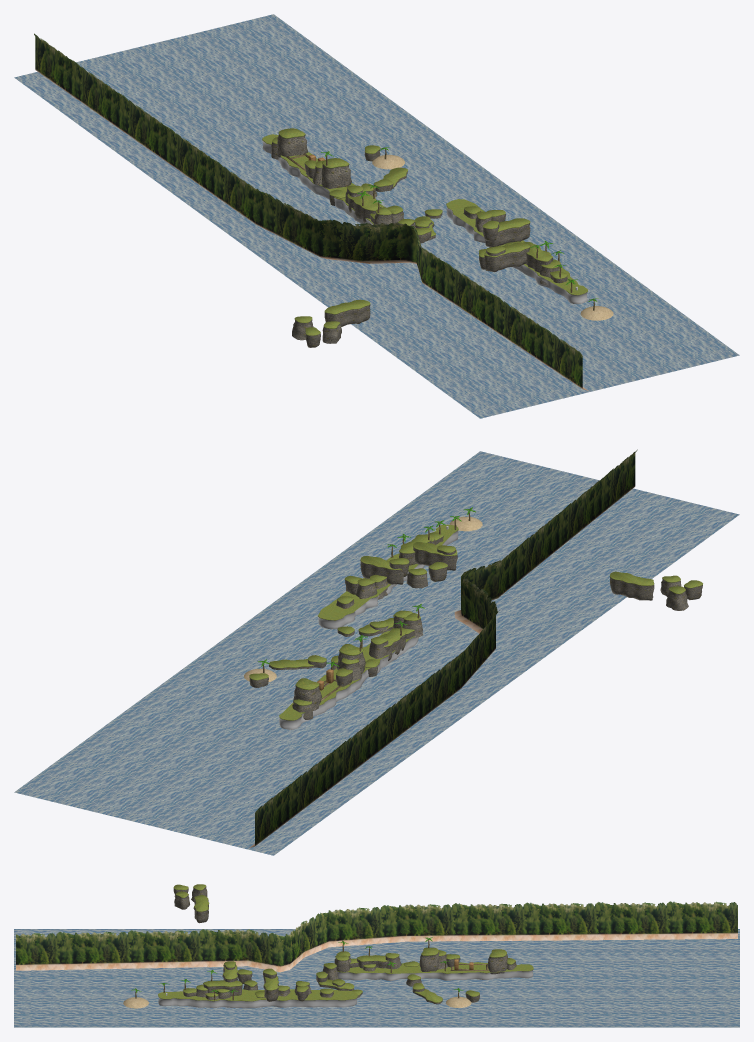
File: wald_1.fbx
The picture shows the model from 3 angles, top to bottom: view 1: azimuth 30°, elevation 25°; view 2: azimuth 150°, elevation 25°; view 3: azimuth 270°, elevation 25°; orthographic projection. The views are drawn at different scales.
Visible parts, largest first — view 1: Water, Plane.002, Plane, Plane.001, Grassblock4, Grassblock4.002, Grassblock4.003, Grassblock3.007, Grassblock3.009; view 2: Water, Plane.002, Plane.001, Plane, Grassblock4, Grassblock4.003, Grassblock4.002; view 3: Water, Plane.002, Plane, Plane.001, Grassblock3.009, Grassblock3.007, Grassblock4.001, Grassblock4, Grassblock4.003, Grassblock4.005.
Boxes of the visible parts, x1,y1,x2,y2 form: Water: (14,14,739,418); Plane.002: (34,33,588,390); Plane: (446,199,587,304); Plane.001: (262,134,384,224); Grassblock4: (324,299,370,326); Grassblock4.002: (484,242,529,272); Grassblock4.003: (485,218,530,247); Grassblock3.007: (321,158,351,188); Grassblock3.009: (277,128,307,157); Water: (14,451,739,855); Plane.002: (249,449,637,847); Plane.001: (279,630,418,729); Plane: (318,524,458,629); Grassblock4: (610,571,654,600); Grassblock4.003: (360,556,403,584); Grassblock4.002: (413,542,457,570); Water: (14,929,739,1027); Plane.002: (16,901,737,972); Plane: (158,989,357,1008); Plane.001: (337,962,533,981); Grassblock3.009: (487,949,507,974); Grassblock3.007: (419,947,439,971); Grassblock4.001: (203,980,242,996); Grassblock4: (193,895,209,923); Grassblock4.003: (263,976,278,1001); Grassblock4.005: (356,955,388,968).
Size of the model in its own units: 25297 by 4258 by 62279.
